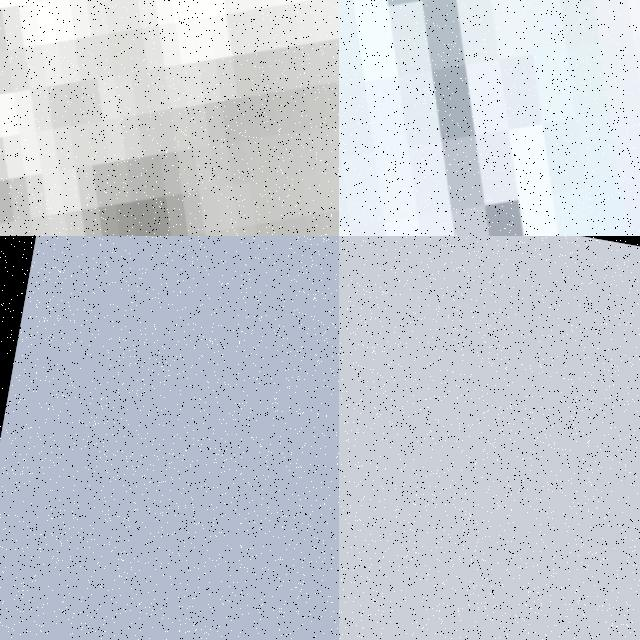drone: (0, 0, 339, 236), (339, 0, 640, 236)
